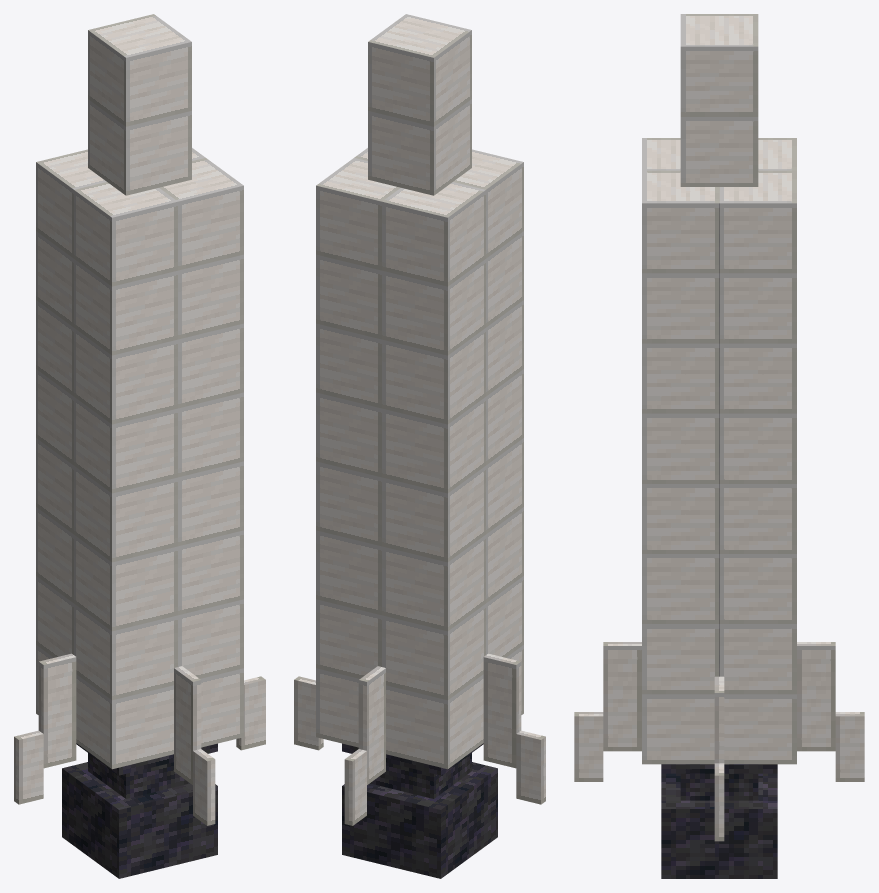
The model's file is roket.fbx.
3 views of the same model, side by side, from view 1: azimuth 30°, elevation 25°; view 2: azimuth 150°, elevation 25°; view 3: azimuth 270°, elevation 25° (orthographic).
Visible parts, largest first — view 1: cube_36, cube_33, cube_20, cube_32, cube_8, cube_14, cube_18, cube_26, cube_28, cube_6, cube_2, cube_23 (+21 smaller); view 2: cube_36, cube_33, cube_21, cube_32, cube_9, cube_15, cube_19, cube_27, cube_29, cube_7, cube_3, cube_22 (+21 smaller); view 3: cube_36, cube_33, cube_22, cube_23, cube_16, cube_24, cube_25, cube_30, cube_17, cube_31, cube_32, cube_10 (+17 smaller).
Part boxes in pixels (x1,y1,x2,y2): cube_36: (62, 762, 217, 878); cube_33: (88, 14, 191, 126); cube_20: (74, 182, 177, 286); cube_32: (88, 99, 191, 195); cube_8: (74, 535, 177, 631); cube_14: (74, 466, 177, 562); cube_18: (74, 397, 177, 493); cube_26: (74, 259, 177, 355); cube_28: (74, 328, 177, 424); cube_6: (74, 604, 177, 700); cube_2: (76, 674, 173, 769); cube_23: (159, 158, 243, 270); cube_36: (342, 762, 497, 878); cube_33: (368, 14, 471, 126); cube_21: (382, 182, 485, 286); cube_32: (368, 99, 471, 195); cube_9: (382, 535, 485, 631); cube_15: (382, 466, 485, 562); cube_19: (382, 397, 485, 493); cube_27: (382, 259, 485, 355); cube_29: (382, 328, 485, 424); cube_7: (382, 604, 485, 700); cube_3: (386, 674, 483, 769); cube_22: (316, 158, 400, 270); cube_36: (661, 773, 777, 878); cube_33: (680, 14, 758, 116); cube_22: (719, 170, 796, 273); cube_23: (642, 170, 719, 273); cube_16: (719, 413, 796, 483); cube_24: (719, 273, 796, 343); cube_25: (642, 273, 719, 343); cube_30: (719, 343, 796, 413); cube_17: (642, 413, 719, 483); cube_31: (642, 343, 719, 413); cube_32: (680, 117, 758, 186); cube_10: (719, 554, 796, 623).
Size of the model in its own units: 375 by 1175 by 375.
